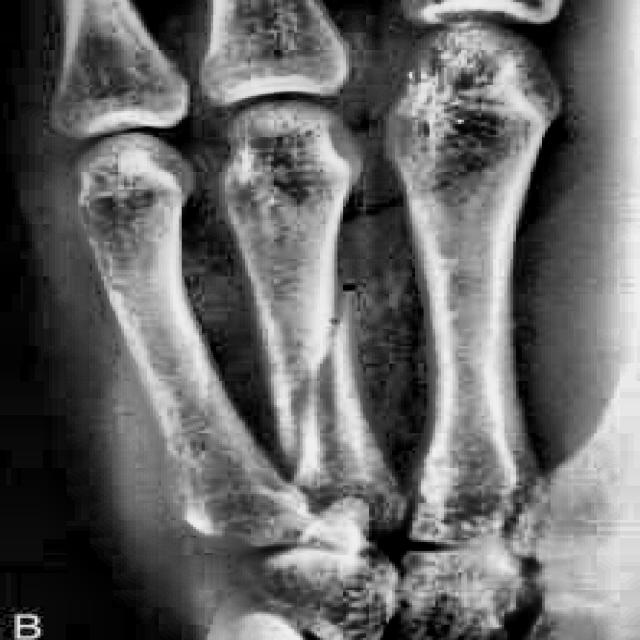fracture: (274, 276, 360, 477)
